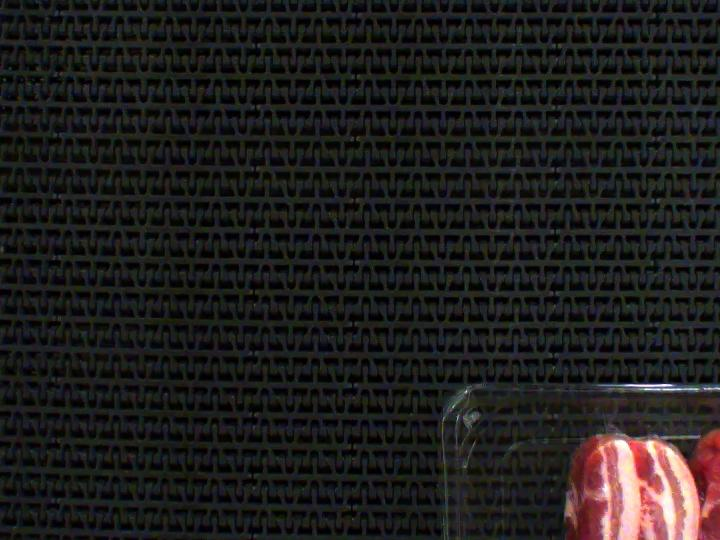packaging-error: (599, 414, 627, 438), (706, 405, 720, 433)
